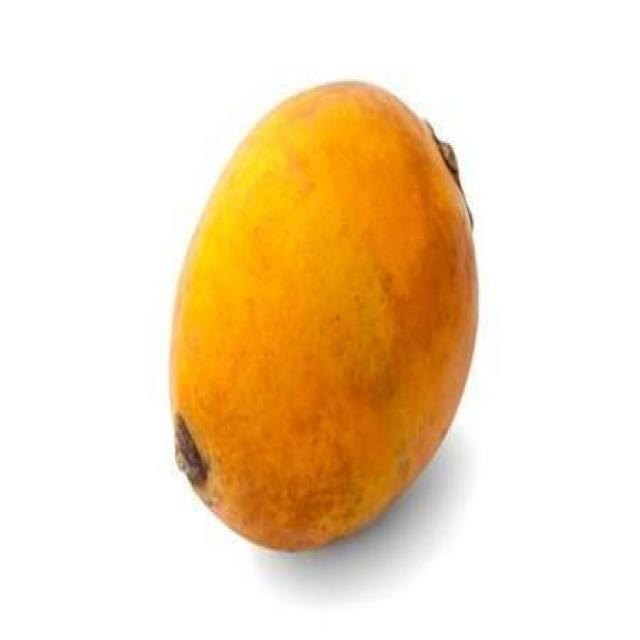good: (168, 81, 481, 550)
